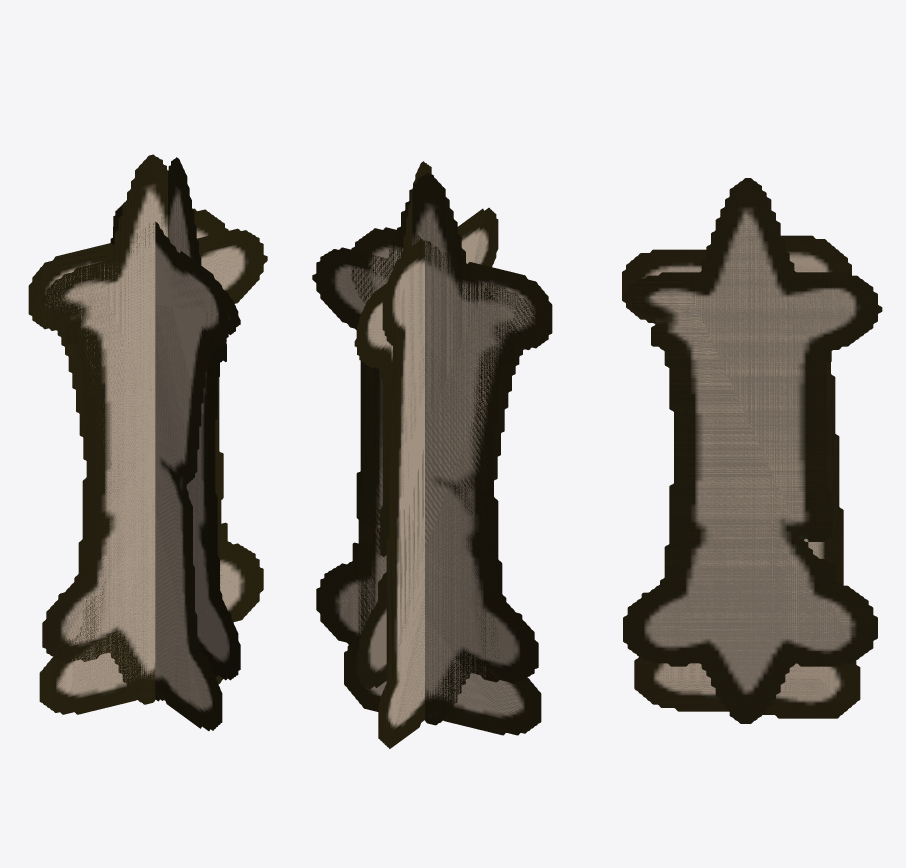
Rendered from c_hone2.dae.
3 views of the same model, side by side, from view 1: azimuth 30°, elevation 25°; view 2: azimuth 150°, elevation 25°; view 3: azimuth 270°, elevation 25° (orthographic).
Parts seen in each view (by area): view 1: locator9_pPlane86, locator10_pPlane64, locator1_pPlane86, locator9_pPlane85, locator10_pPlane70, locator10_pPlane88, locator9_pPlane84, locator10_pPlane87, locator1_pPlane84, locator9_pPlane83, locator1_pPlane85; view 2: locator9_pPlane85, locator10_pPlane88, locator10_pPlane64, locator1_pPlane85, locator10_pPlane87, locator10_pPlane70, locator9_pPlane86, locator9_pPlane84, locator9_pPlane83, locator1_pPlane84, locator1_pPlane83; view 3: locator9_pPlane84, locator1_pPlane83, locator10_pPlane64, locator10_pPlane70, locator9_pPlane83.
Boxes of the visible parts, x1,y1,x2,y2 form: locator9_pPlane86: (42,155,267,704); locator10_pPlane64: (113,204,228,730); locator1_pPlane86: (43,154,267,686); locator9_pPlane85: (42,155,267,702); locator10_pPlane70: (113,216,228,730); locator10_pPlane88: (28,208,228,714); locator9_pPlane84: (110,158,240,680); locator10_pPlane87: (29,243,221,714); locator1_pPlane84: (110,158,238,679); locator9_pPlane83: (110,157,240,634); locator1_pPlane85: (42,158,258,685); locator9_pPlane85: (312,173,538,725); locator10_pPlane88: (344,227,552,735); locator10_pPlane64: (378,208,498,748); locator1_pPlane85: (312,173,538,724); locator10_pPlane87: (344,228,552,735); locator10_pPlane70: (378,208,498,747); locator9_pPlane86: (312,173,536,724); locator9_pPlane84: (356,163,433,689); locator9_pPlane83: (354,161,433,680); locator1_pPlane84: (357,171,430,687); locator1_pPlane83: (355,162,431,504); locator9_pPlane84: (623,178,882,723); locator1_pPlane83: (623,178,882,723); locator10_pPlane64: (622,235,860,718); locator10_pPlane70: (622,236,860,718); locator9_pPlane83: (623,178,881,704).
Size of the model in its own units: 11.58 by 30.94 by 11.41.
Materials: 2 (2 with a texture image).
